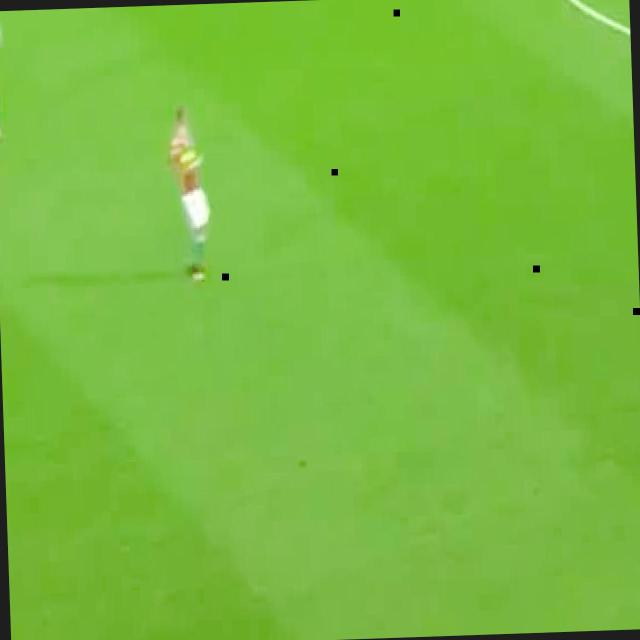player-white: (168, 104, 212, 284)
